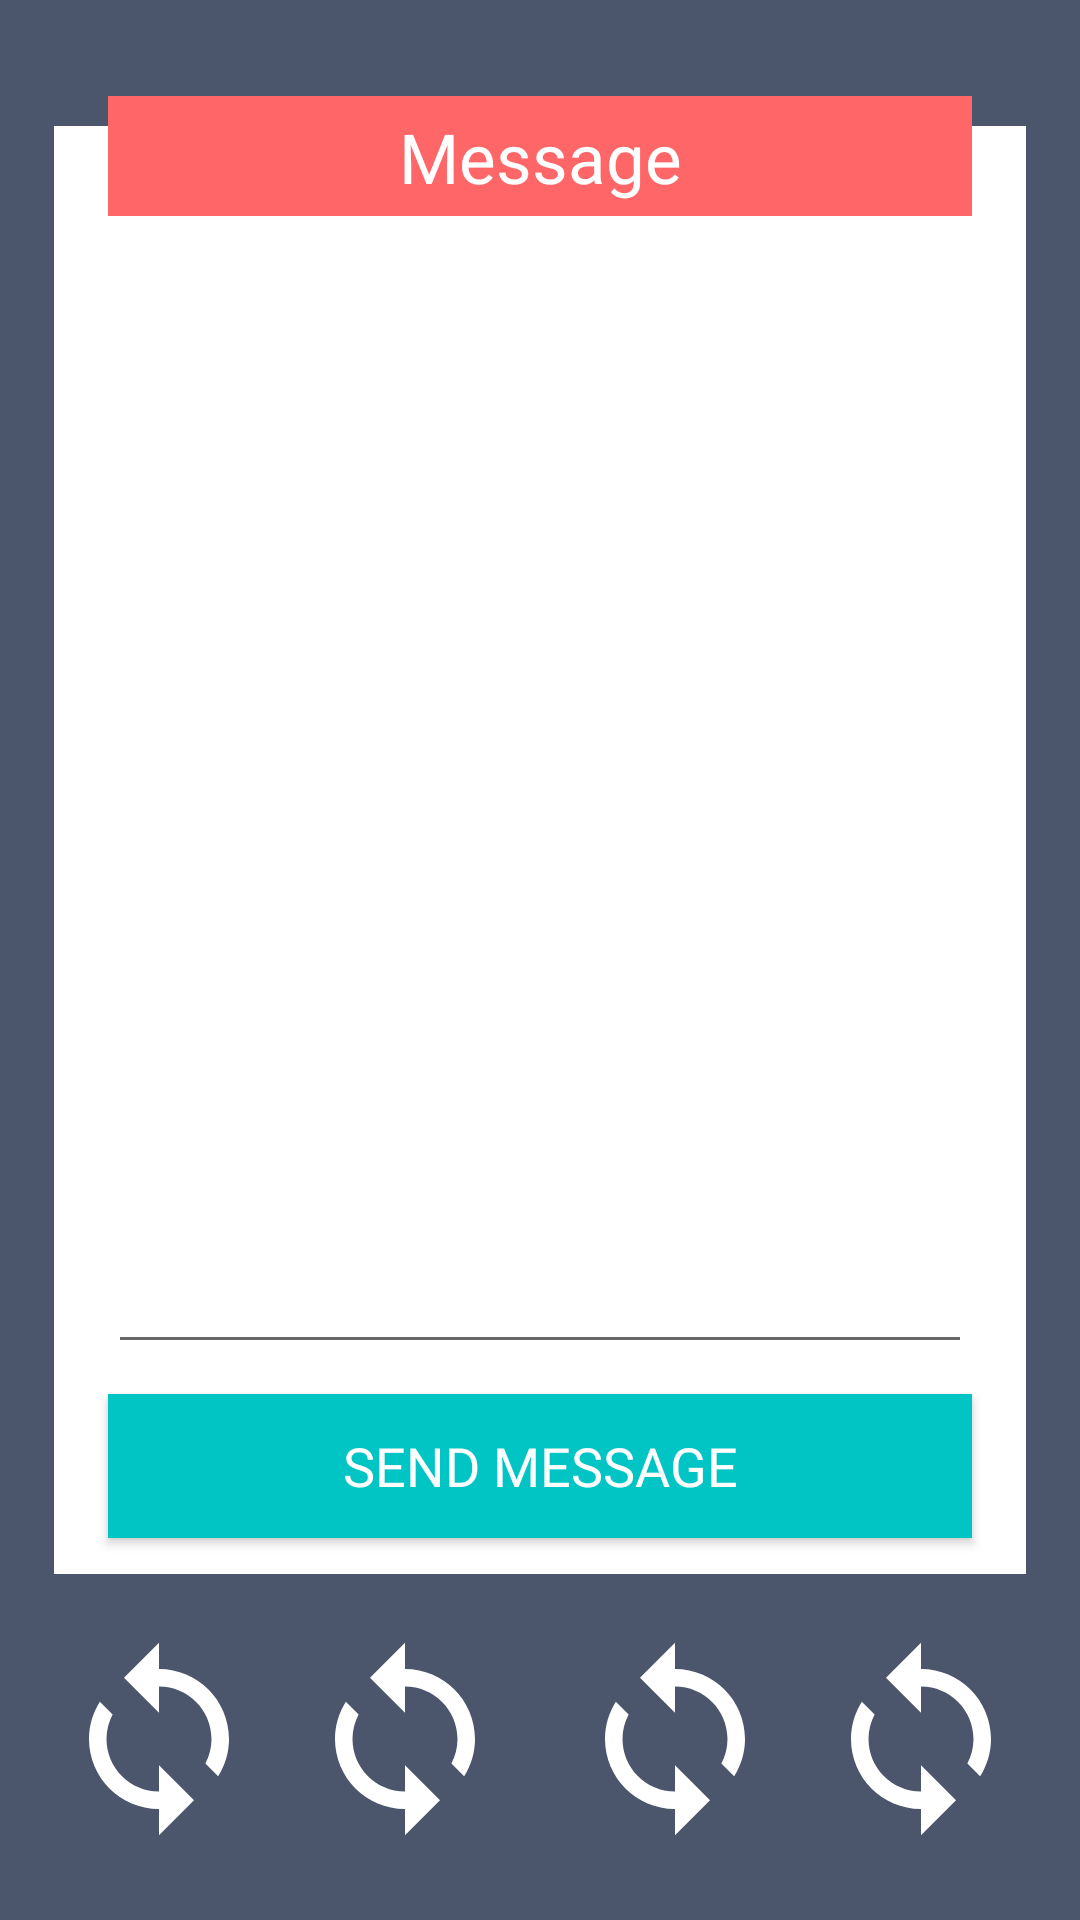

Locate icon controls on the screen. Image size 1080 x 1920, boxes as (x1, y1, x2, y2).
sync: (89, 1643, 229, 1835), (335, 1643, 475, 1835), (605, 1643, 745, 1835), (851, 1643, 991, 1835)
